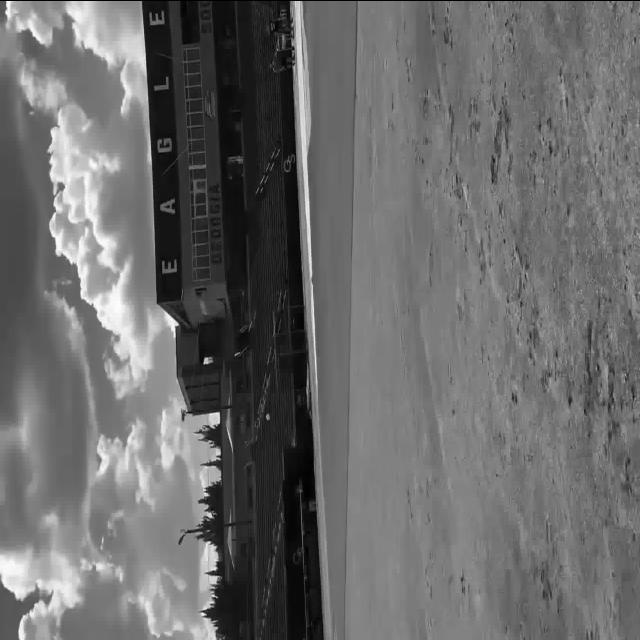baseball: (266, 413, 270, 420)
